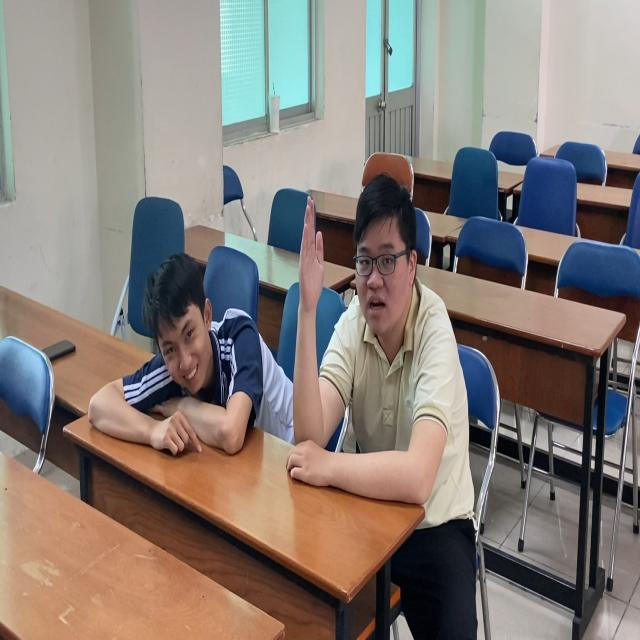raise_hand: (292, 174, 457, 529)
